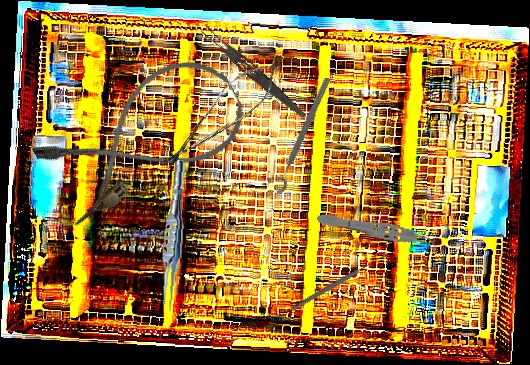Cannula: (28, 42, 257, 232)
Dressing Forceps: (197, 22, 311, 121)
Fixation Ring: (264, 72, 335, 196)
Micro Scissor: (152, 48, 292, 182)
Surgical Spoon: (290, 252, 389, 312)
Tissue Forceps: (315, 208, 440, 254), (157, 159, 189, 313)
